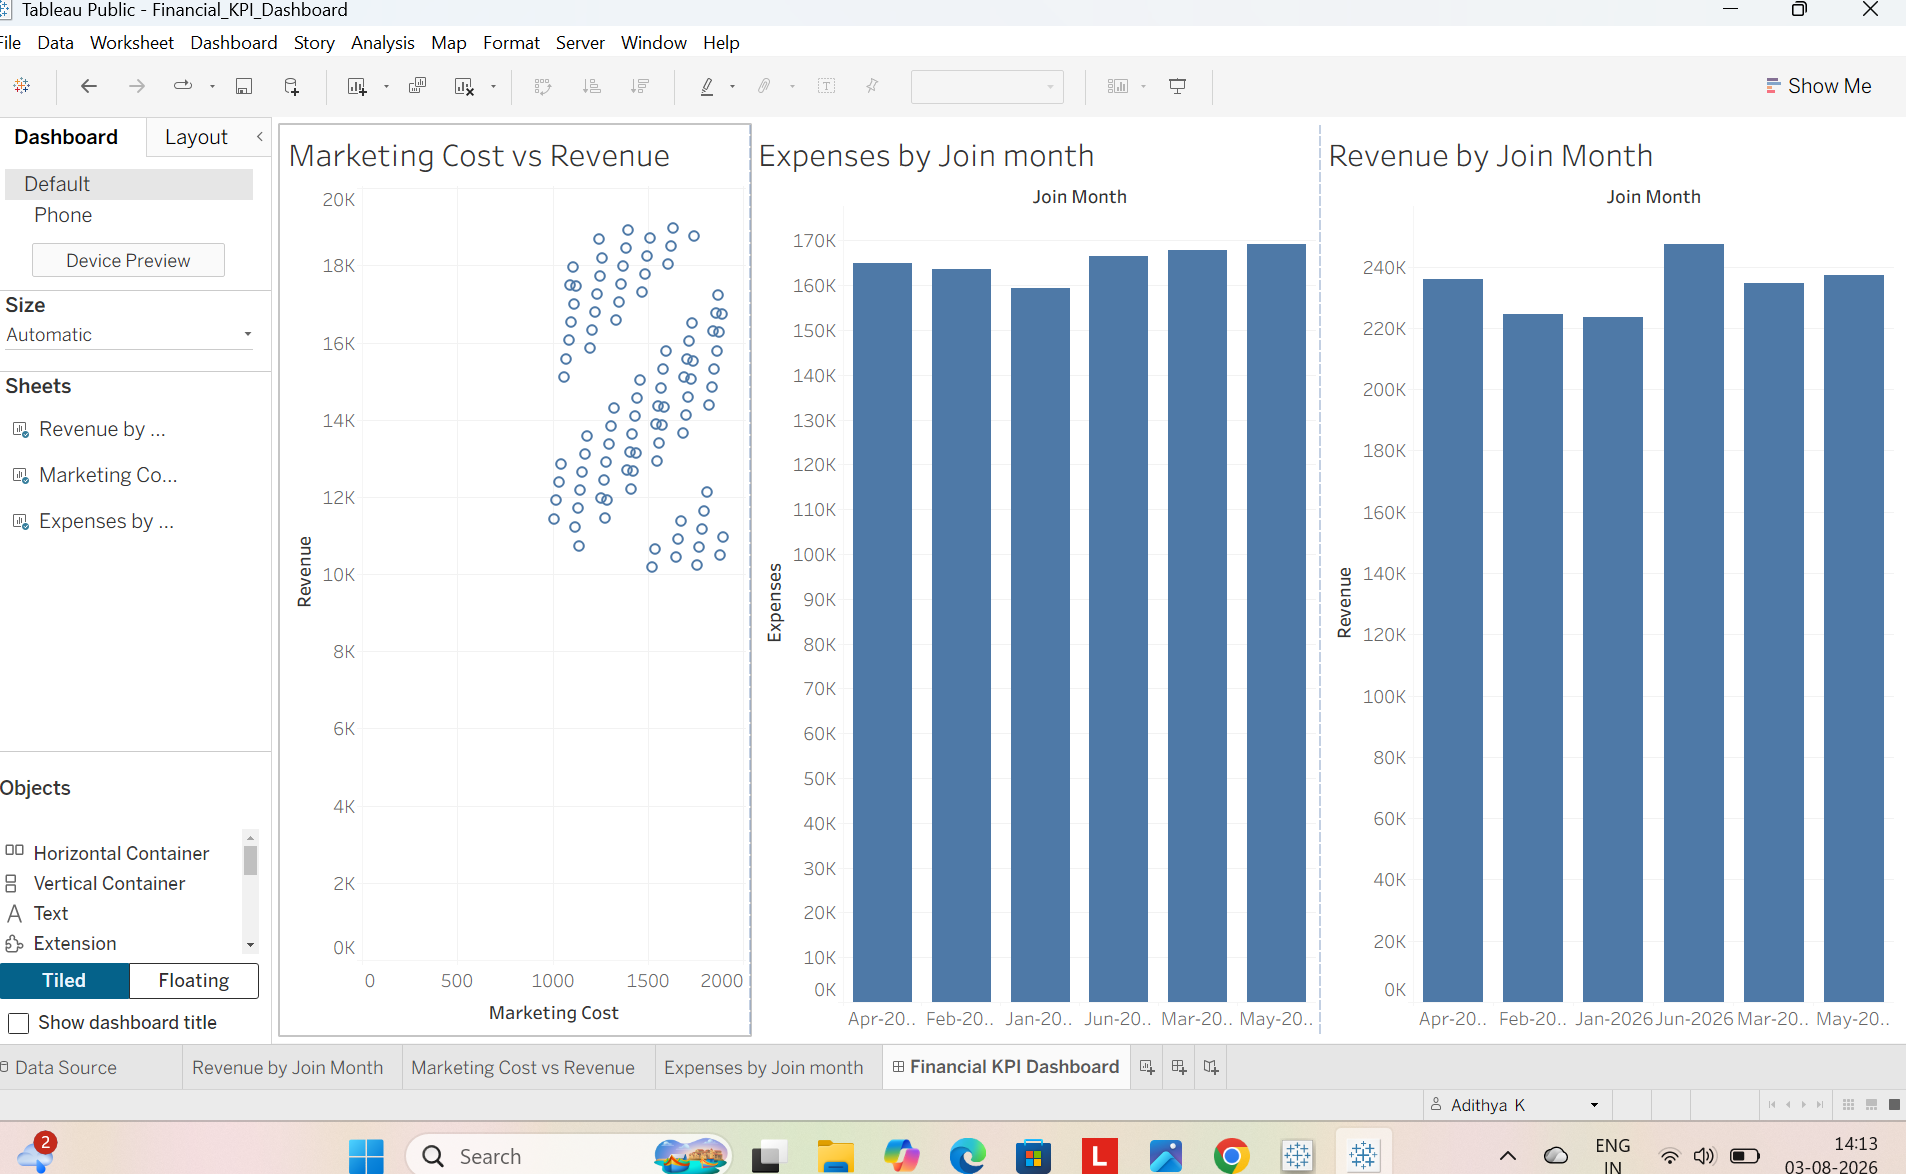

The dashboard page shown, as its layout file describes it:
{"tool":"tableau","page":{"name":"Financial KPI Dashboard","canvas":[1000,1000],"units":"permille","ordinal":0},"visuals":[{"type":"worksheet","title":"Marketing Cost vs Revenue","mark":"Automatic","rows":["Revenue"],"cols":["Marketing Cost"],"box":[4.9,8.6,287.6,982.7]},{"type":"worksheet","title":"Expenses by Join month","mark":"Automatic","rows":["Expenses"],"cols":["Join Month"],"box":[292.5,8.6,348.8,982.7]},{"type":"worksheet","title":"Revenue by Join Month","mark":"Automatic","rows":["Revenue"],"cols":["Join Month"],"box":[641.4,8.6,353.7,982.7]}]}

Visuals, with their boxes on the dashboard's canvas, which has no fixed pixel size, in thousandths of its width and height (x1, y1, x2, y2). These are canvas units, not pixel positions in the 1906x1174 screenshot, which may show the page scaled, cropped or inside an application window:
"Marketing Cost vs Revenue" worksheet: [left=5, top=9, right=292, bottom=991]
"Expenses by Join month" worksheet: [left=292, top=9, right=641, bottom=991]
"Revenue by Join Month" worksheet: [left=641, top=9, right=995, bottom=991]
